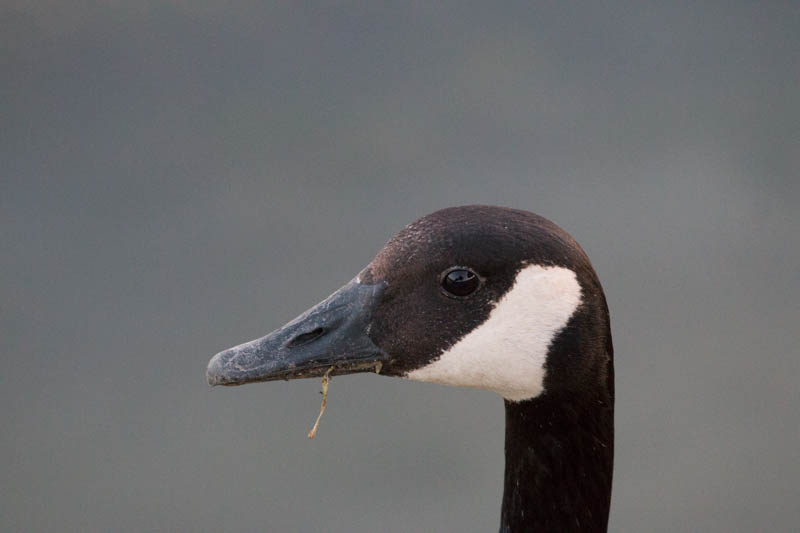goose-head: (205, 205, 615, 403)
